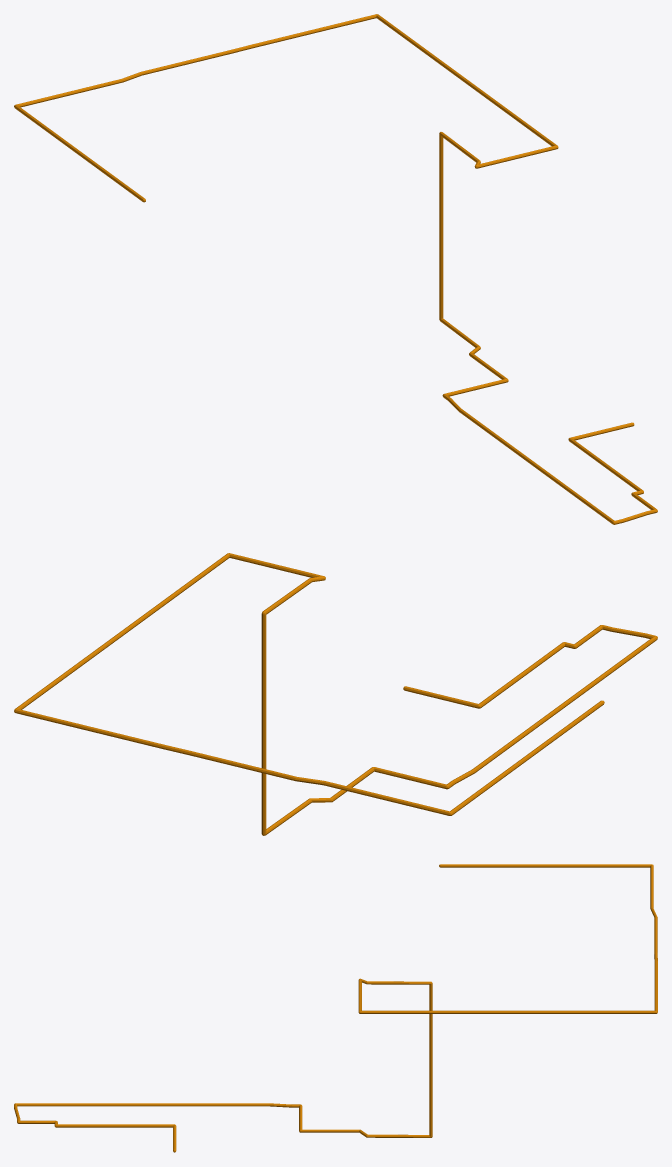
3 renders of one model, top to bottom at view 1: azimuth 30°, elevation 25°; view 2: azimuth 150°, elevation 25°; view 3: azimuth 270°, elevation 25°, orthographic. The views are drawn at different scales.
Size of the model in its own units: 2068 by 1020 by 3807.
